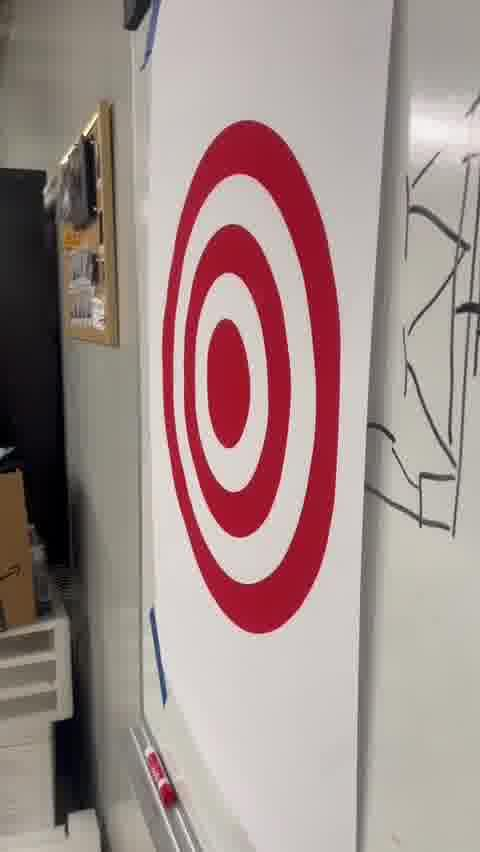target_red: (160, 117, 341, 635)
